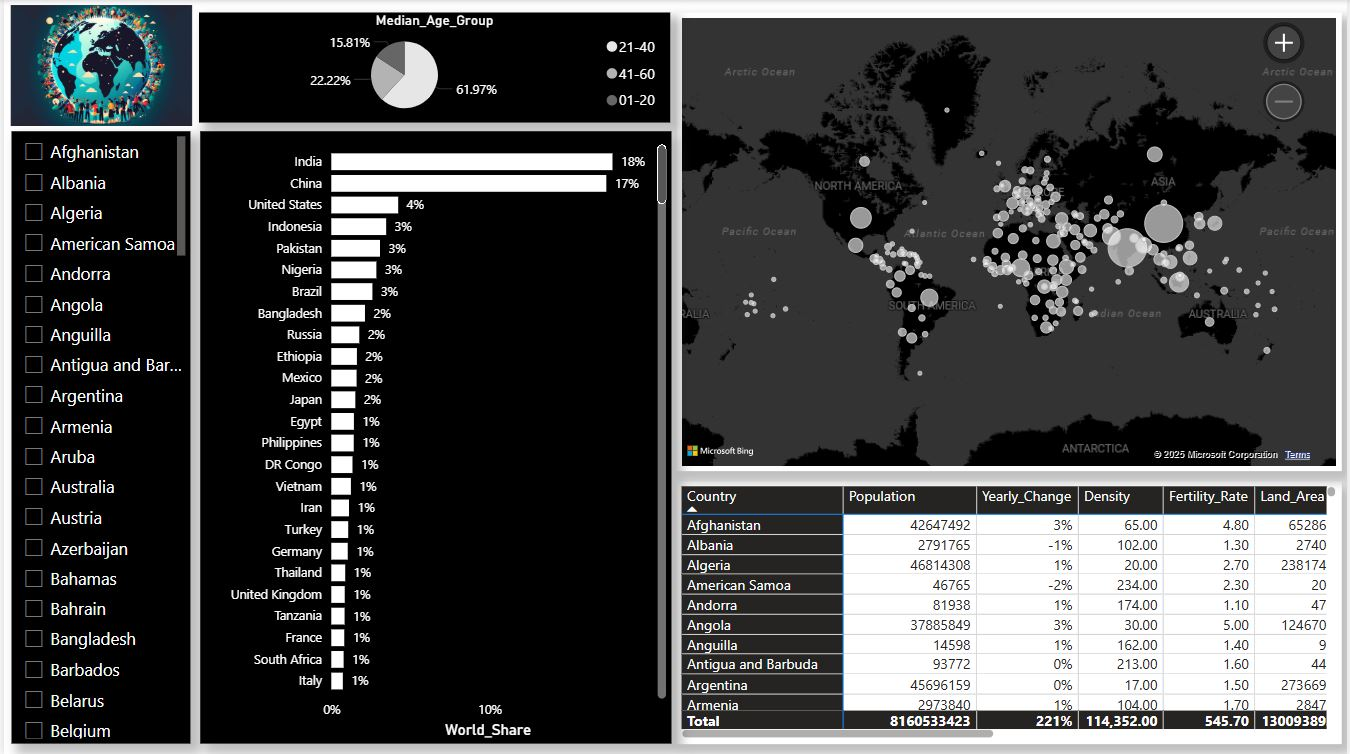

What the dashboard file says about the page in this screenshot:
{"tool":"powerbi","page":{"name":"World Populations","canvas":[1280,720],"ordinal":0},"visuals":[{"type":"pivotTable","fields":{"Rows":["CountryPopulationDetails.Country"],"Values":["Sum(CountryPopulationDetails.Population)","Sum(CountryPopulationDetails.Yearly_Change)","Sum(CountryPopulationDetails.Density)","Sum(CountryPopulationDetails.Fertility_Rate)","Sum(CountryPopulationDetails.Land_Area)","Sum(CountryPopulationDetails.Median_Age)","Sum(CountryPopulationDetails.Migrants)","Sum(CountryPopulationDetails.Net_Change)","Sum(CountryPopulationDetails.Urban_Pop)","Sum(CountryPopulationDetails.World_Share)"]},"box":[640.5,458.3,633.3,250],"z":0},{"type":"map","title":"Populations","fields":{"Category":["CountryPopulationDetails.Country"],"Size":["Sum(CountryPopulationDetails.Population)"]},"box":[640.5,11.9,633.3,436.9],"z":1000},{"type":"slicer","fields":{"Values":["CountryPopulationDetails.Country"]},"box":[7.1,125,170.2,583.3],"z":2000},{"type":"pieChart","title":"Median_Age_Group","fields":{"Category":["CountryPopulationDetails.Median_Age_Group"],"Y":["CountNonNull(CountryPopulationDetails.Median_Age_Group)"]},"box":[185.7,11.9,448.8,104.8],"z":3000},{"type":"image","box":[0,0,185.7,125],"z":4000},{"type":"clusteredBarChart","fields":{"Category":["CountryPopulationDetails.Country"],"Y":["Sum(CountryPopulationDetails.World_Share)"]},"box":[186.9,125,448.8,583.3],"z":5000}]}

Visuals, with their boxes in screenshot pixels (x1, y1, x2, y2), scaled from the page's 1280x720 canvas onto the 1350x754 screenshot:
pivotTable - CountryPopulationDetails.Country x Sum(CountryPopulationDetails.Population): (left=676, top=480, right=1343, bottom=742)
"Populations" map: (left=676, top=12, right=1343, bottom=470)
slicer - CountryPopulationDetails.Country: (left=7, top=131, right=187, bottom=742)
"Median_Age_Group" pieChart: (left=196, top=12, right=669, bottom=122)
image: (left=0, top=0, right=196, bottom=131)
clusteredBarChart - CountryPopulationDetails.Country x Sum(CountryPopulationDetails.World_Share): (left=197, top=131, right=670, bottom=742)
